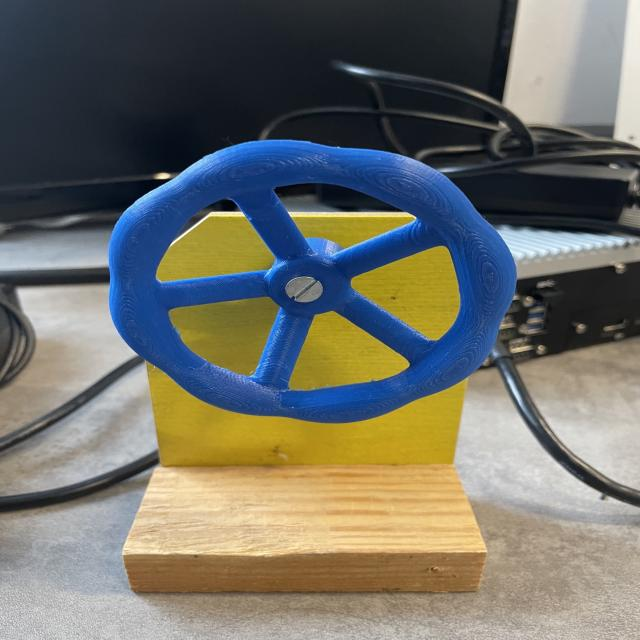Wheel Handle Valve Threaded: (96, 132, 533, 432)
